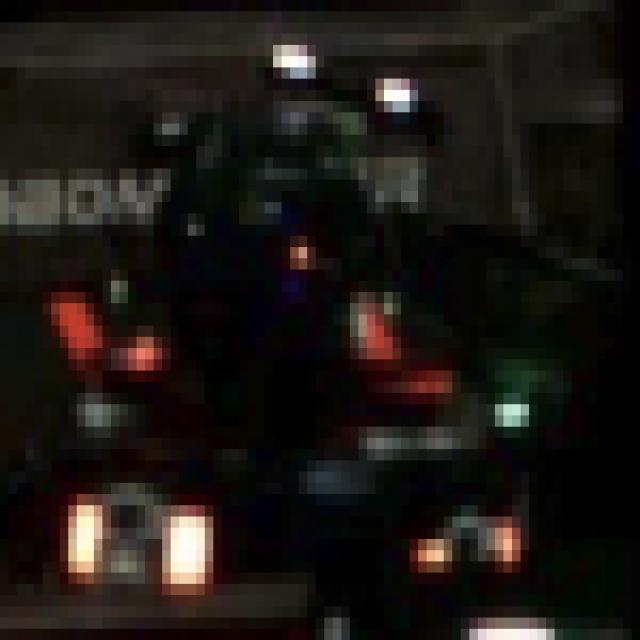Rs: (60, 483, 222, 606)
